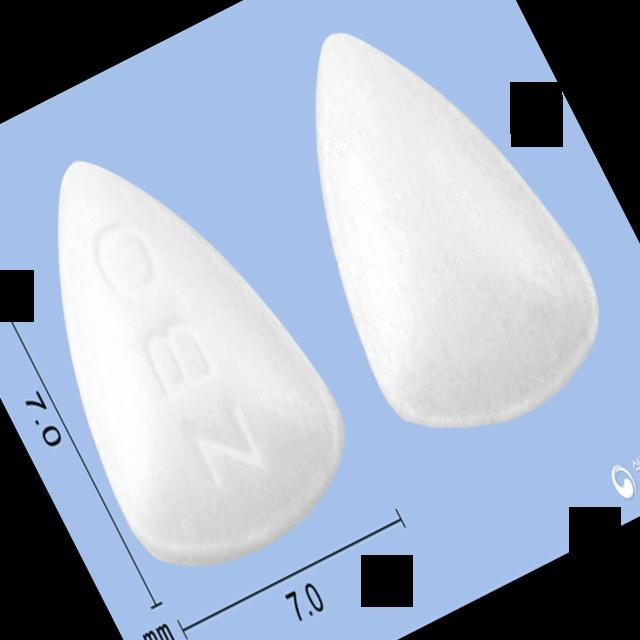Arava: (0, 102, 388, 608)
